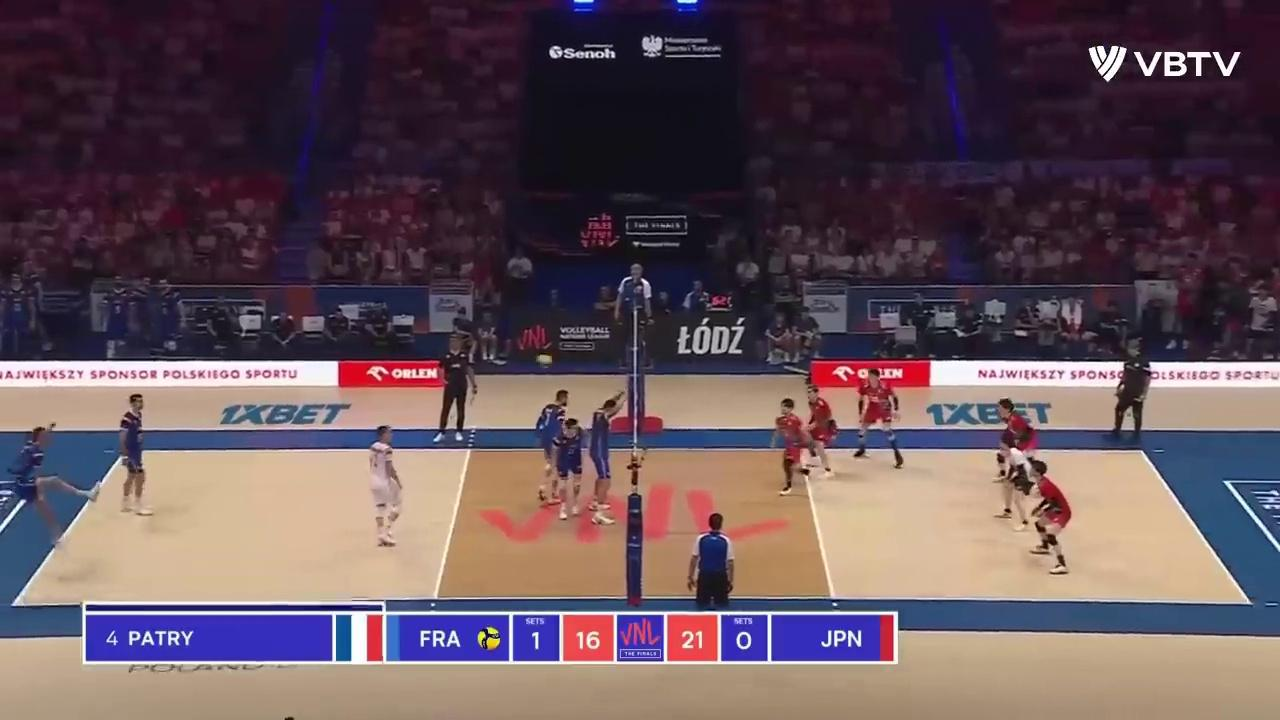ball: (534, 353, 553, 368)
